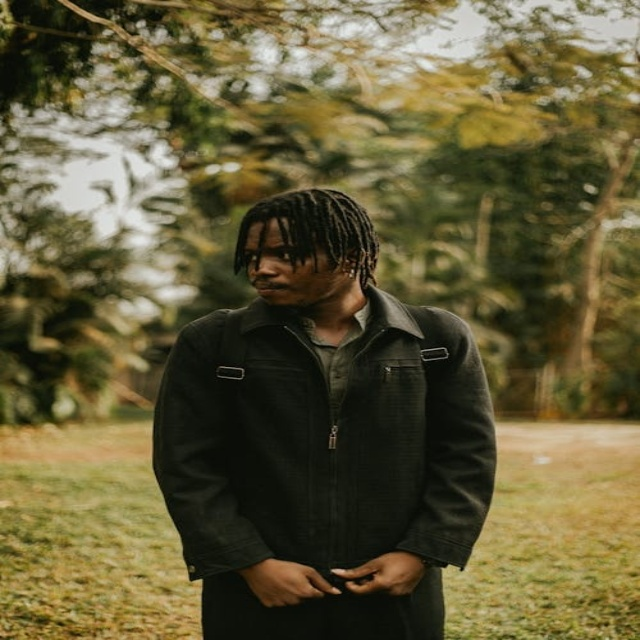Sin_gafas: (241, 238, 308, 265)
Sin_guantes: (255, 554, 342, 611), (330, 551, 424, 600)
Sin_mascara: (251, 278, 294, 304)
